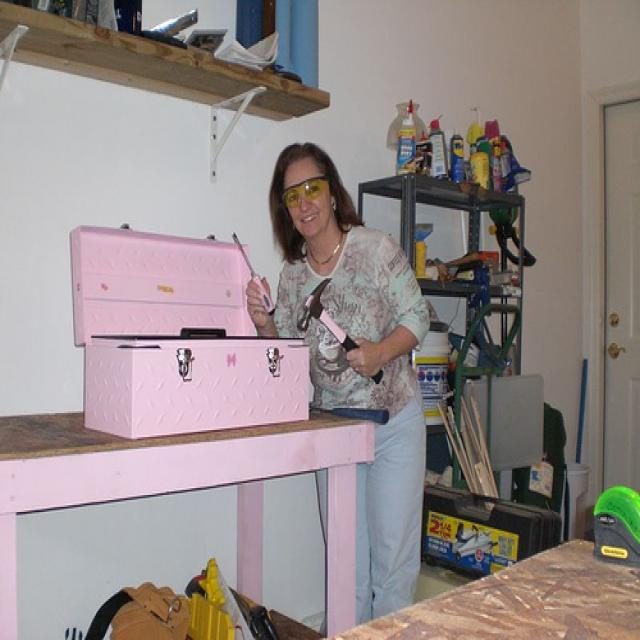hammer: (294, 274, 392, 403)
screwdriver: (225, 222, 283, 330)
